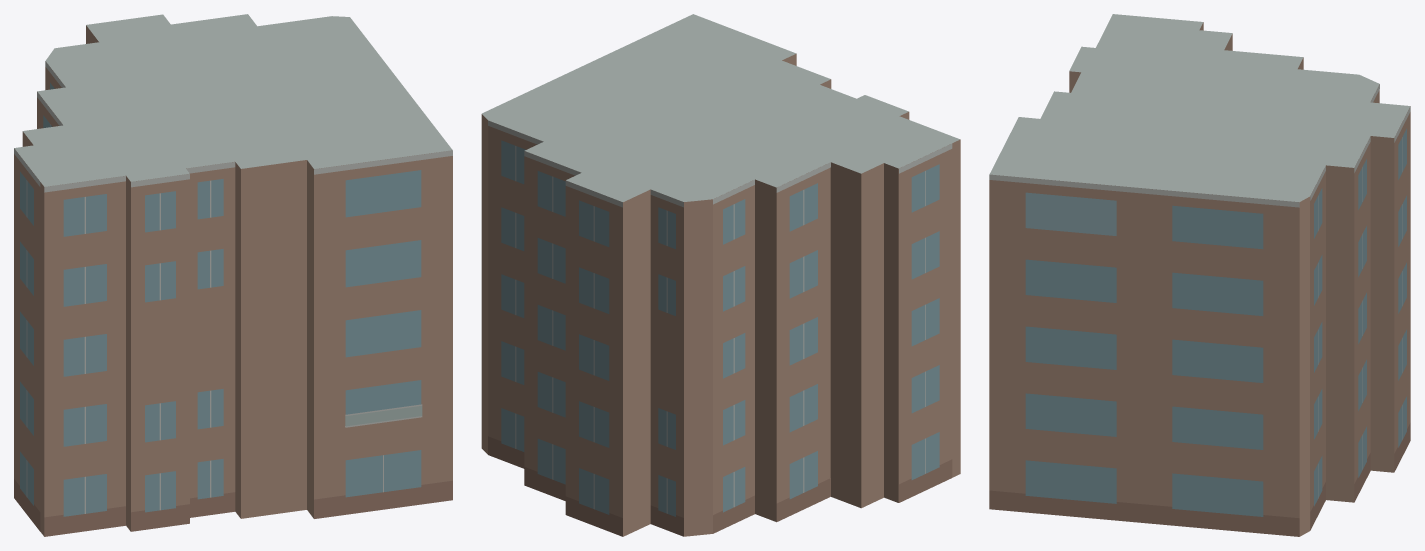
Rendered from survey-upis-32999667.glb.
The picture shows the model from 3 angles, left to right: view 1: azimuth 30°, elevation 25°; view 2: azimuth 150°, elevation 25°; view 3: azimuth 270°, elevation 25°; orthographic projection. The views are drawn at different scales.
Parts seen in each view (by area): view 1: survey-upis-32999667.tmp; view 2: survey-upis-32999667.tmp; view 3: survey-upis-32999667.tmp.
Part boxes in pixels (bbox=[...]): survey-upis-32999667.tmp: bbox=[14, 14, 452, 536]; survey-upis-32999667.tmp: bbox=[481, 14, 960, 536]; survey-upis-32999667.tmp: bbox=[989, 14, 1410, 536].
Bounding box in the file's own units: 18.4 × 15.25 × 17.4.
